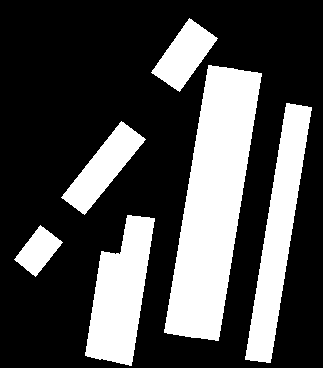parkingspot: (164, 65, 237, 337), (190, 69, 261, 340), (245, 103, 311, 362), (99, 215, 154, 365), (61, 121, 145, 214), (151, 18, 217, 91), (85, 251, 117, 359), (14, 225, 62, 276)
